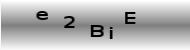2: (62, 14, 76, 29)
B: (90, 23, 104, 37)
E: (124, 11, 136, 24)
e: (35, 10, 49, 20)
i: (109, 25, 113, 40)
